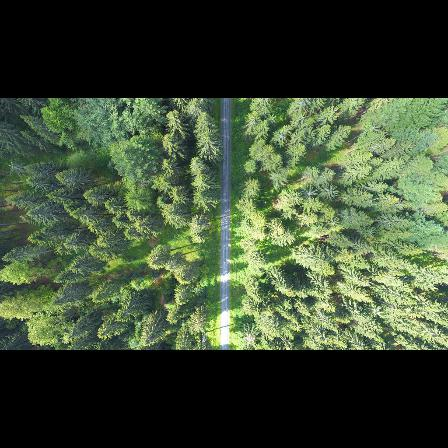Sick: (301, 186, 318, 202)
